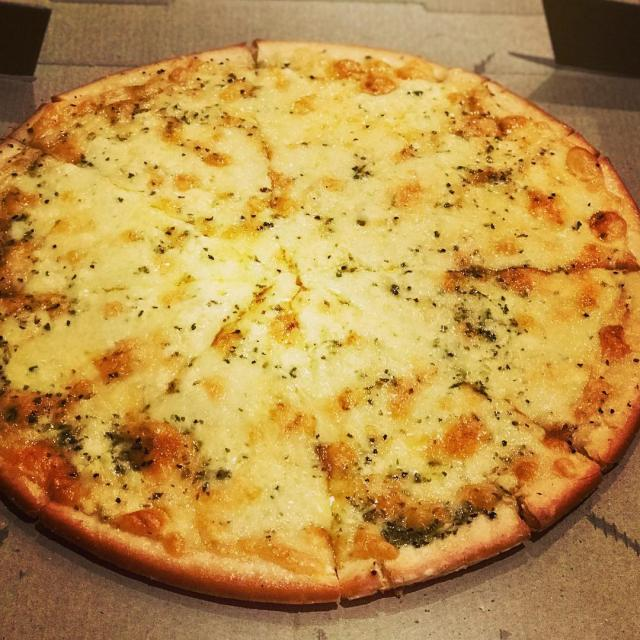pizza: (0, 41, 640, 603)
